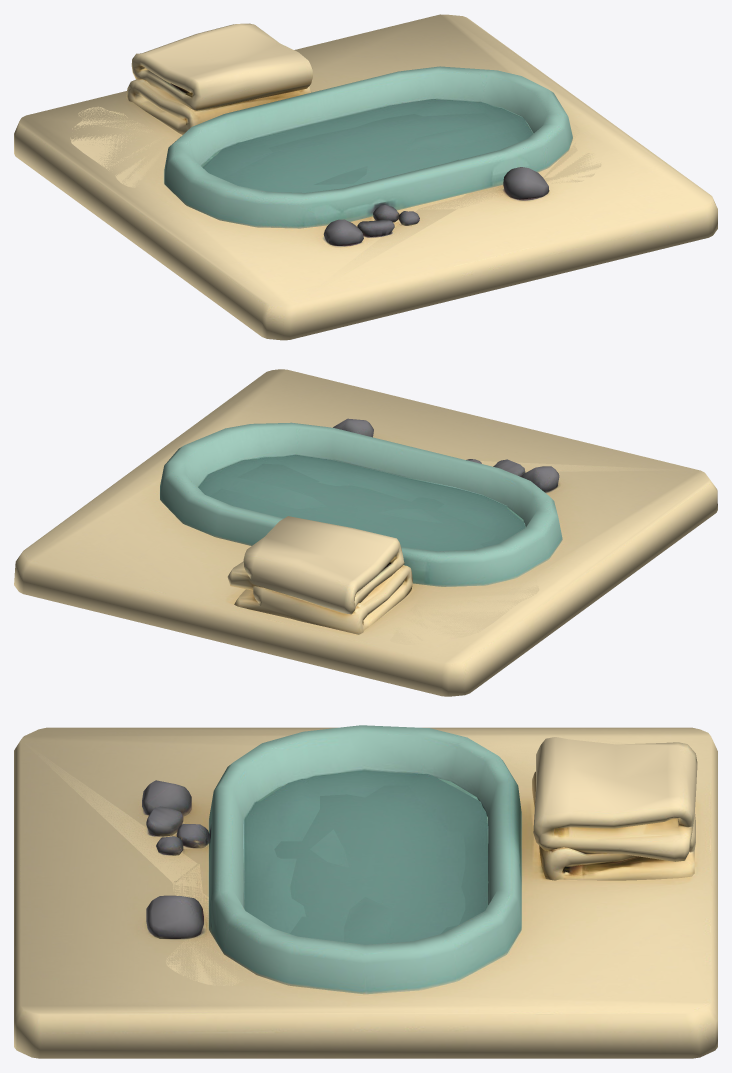
Rendered from spa.glb.
3 renders of one model, top to bottom at view 1: azimuth 30°, elevation 25°; view 2: azimuth 150°, elevation 25°; view 3: azimuth 270°, elevation 25°, orthographic. The views are drawn at different scales.
Parts seen in each view (by area): view 1: tripo_node_28f06261-ee06-4f45-a78e-fc457615d1a0; view 2: tripo_node_28f06261-ee06-4f45-a78e-fc457615d1a0; view 3: tripo_node_28f06261-ee06-4f45-a78e-fc457615d1a0.
Part boxes in pixels (x1,y1,x2,y2): tripo_node_28f06261-ee06-4f45-a78e-fc457615d1a0: [14, 14, 717, 340]; tripo_node_28f06261-ee06-4f45-a78e-fc457615d1a0: [14, 369, 717, 696]; tripo_node_28f06261-ee06-4f45-a78e-fc457615d1a0: [14, 725, 717, 1058].
Size of the model in its own units: 0.9824 by 0.1738 by 0.998.
1 material, 1 textured.
